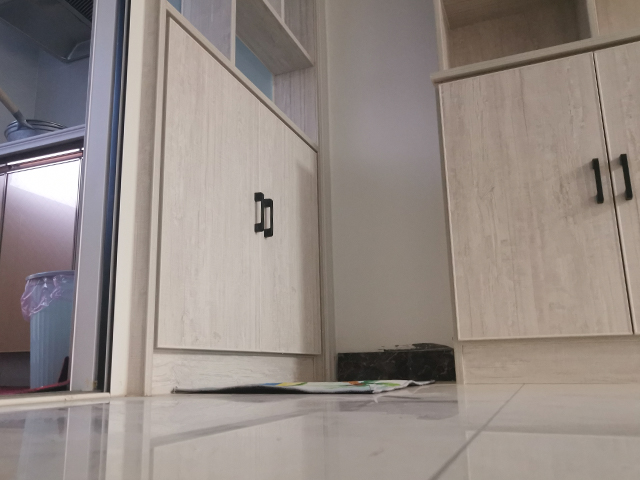cabinet: (103, 1, 339, 400), (437, 31, 640, 387), (1, 122, 88, 393)
carpet: (170, 377, 436, 397)
trashcan: (20, 269, 78, 391)
